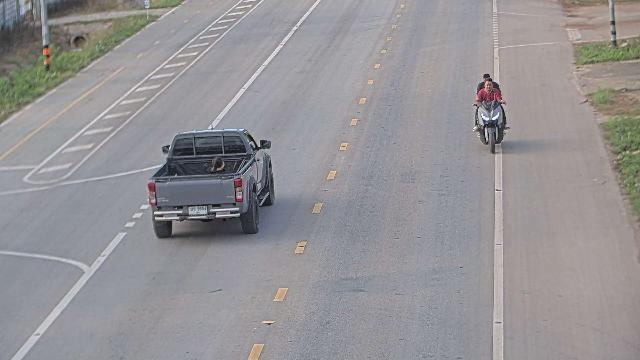motorcycle: (468, 79, 507, 156)
pickup-truck: (146, 127, 275, 238)
